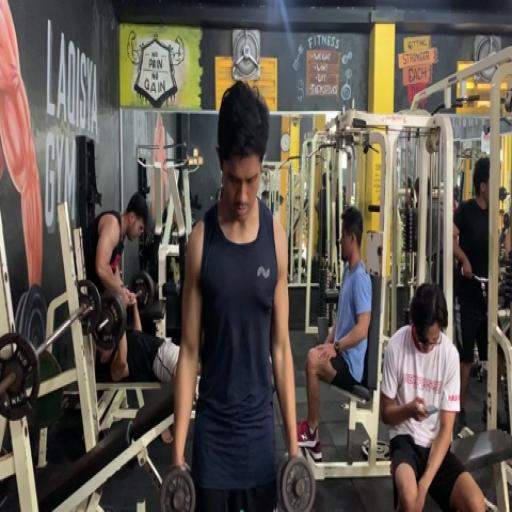exercise: (165, 78, 302, 511), (378, 280, 492, 511), (294, 204, 376, 464)
